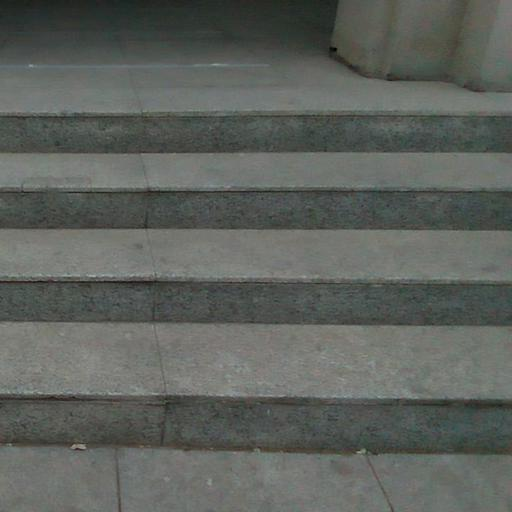stairs: (0, 115, 511, 451)
